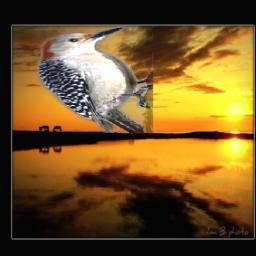Woodpecker: (38, 26, 154, 133)
